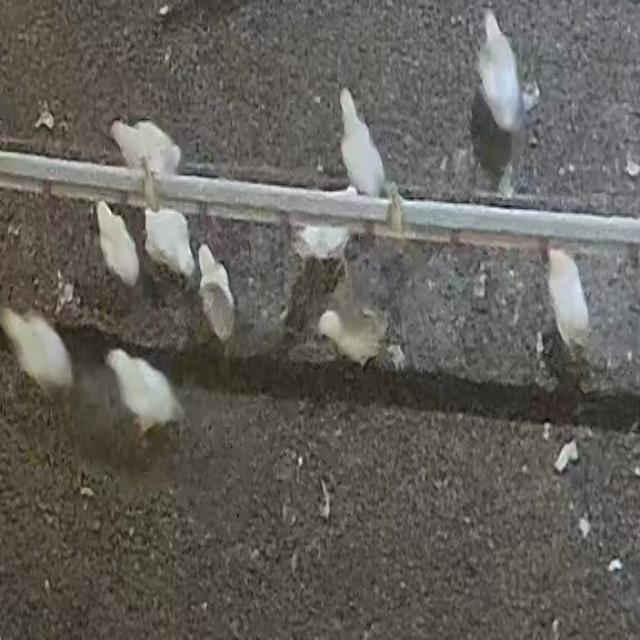chicken: (0, 308, 75, 400), (106, 348, 183, 432), (475, 11, 522, 133), (314, 304, 390, 373), (339, 86, 382, 198), (113, 118, 183, 181), (546, 252, 587, 350), (301, 194, 360, 262), (145, 201, 192, 279), (194, 249, 232, 339), (98, 204, 134, 280)
